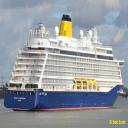cruises: (4, 14, 126, 115)
